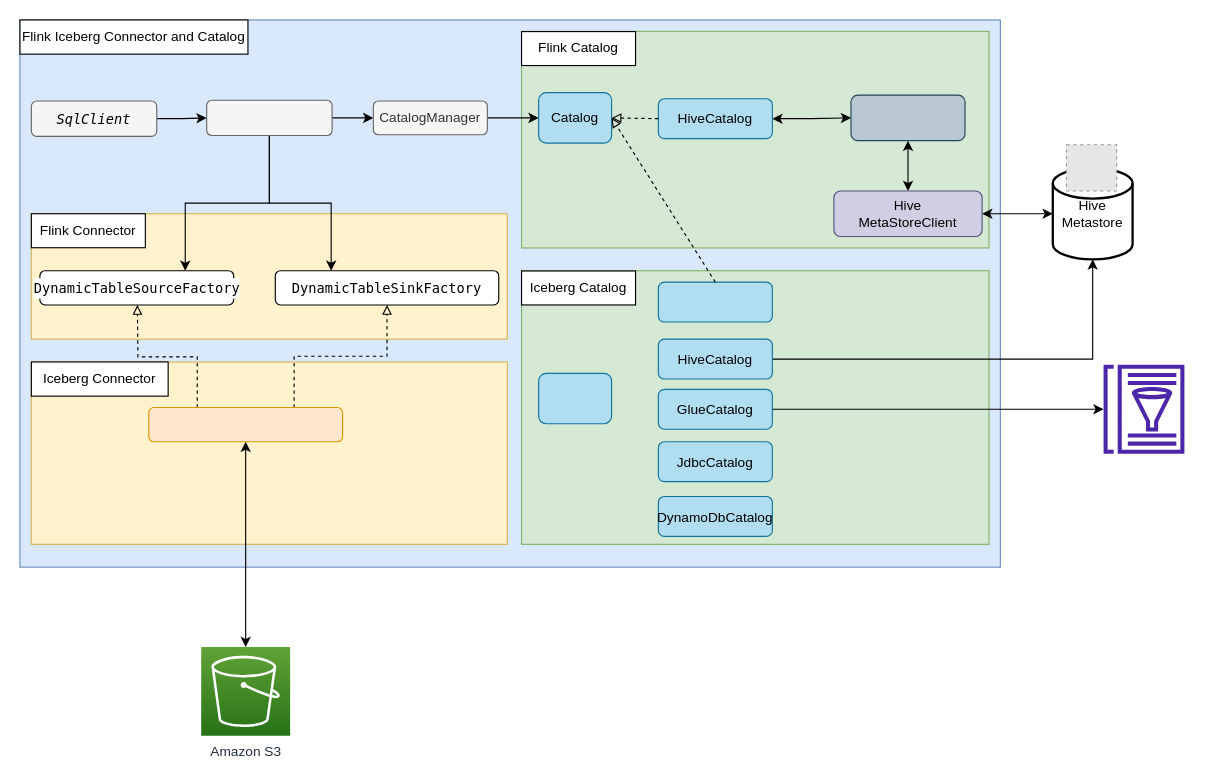
The diagram is 1205 pixels wide and 780 high, and some of its shapes have lost their labels. Grey dashed boxes stand in for pictures. The shapes that lost their labels are listed below. From the top down, each one's centre as x and y in pixels, then its label:
pixel 269 117: TableEnvironment
pixel 907 117: HiveShim
pixel 714 301: FlinkCatalog
pixel 575 398: Catalog (Iceberg)
pixel 1143 408: AWS Glue Data Catalog
pixel 245 424: FlinkDynamicTableFactory
